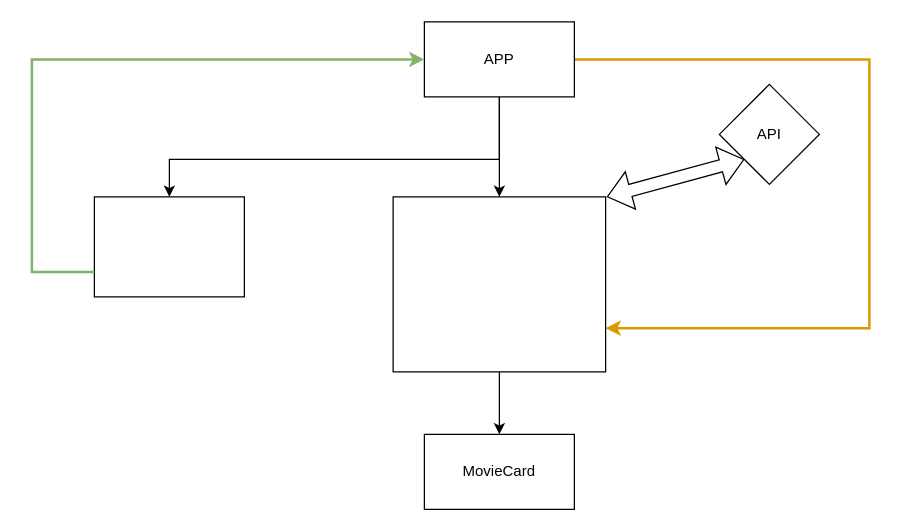
Some shapes in this 901 by 531 pixel diagram are drawn without their labels. The centre of each missing label's shape, as x and y in pixels:
"HeaderComponent Title Search" goes at [168,246].
"MovieList section.movie-list container row col + v-for inputSearch" goes at [499,284].
